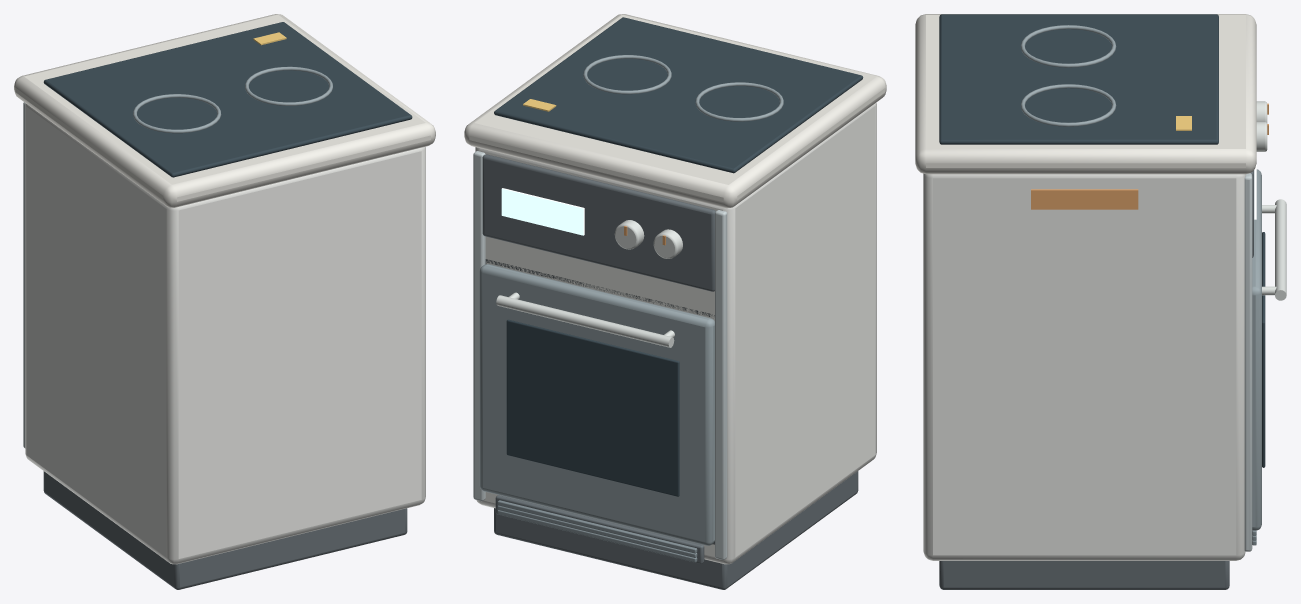
The model's file is galley_oven.glb.
3 views of the same model, side by side, from view 1: azimuth 30°, elevation 25°; view 2: azimuth 150°, elevation 25°; view 3: azimuth 270°, elevation 25° (orthographic). The views are drawn at different scales.
Parts seen in each view (by area): view 1: oven_body_white_painted, hob_dark_glass, oven_cap_warm_shell, oven_plinth_graphite, hob_rings_slate_panel, oven_rails_alloy; view 2: oven_body_white_painted, hob_dark_glass, oven_door_slate_panel, oven_window_dark_glass, oven_cap_warm_shell, control_panel_graphite, oven_plinth_graphite, oven_rails_alloy, oven_vent_dark_alloy, display_screen_cyan, oven_handle_satin_steel, hob_rings_slate_panel (+2 smaller); view 3: oven_body_white_painted, hob_dark_glass, oven_cap_warm_shell, oven_plinth_graphite, oven_rails_alloy, oven_door_slate_panel, side_label_orange, hob_rings_slate_panel, oven_handle_satin_steel, oven_window_dark_glass, knobs_satin_steel.
Boxes of the visible parts, x1=… form: oven_body_white_painted: x1=25, y1=103, x2=425, y2=564; hob_dark_glass: x1=43, y1=22, x2=412, y2=177; oven_cap_warm_shell: x1=14, y1=14, x2=435, y2=207; oven_plinth_graphite: x1=43, y1=471, x2=407, y2=589; hob_rings_slate_panel: x1=133, y1=66, x2=332, y2=133; oven_rails_alloy: x1=23, y1=102, x2=25, y2=448; oven_body_white_painted: x1=475, y1=102, x2=876, y2=564; hob_dark_glass: x1=494, y1=17, x2=863, y2=173; oven_door_slate_panel: x1=479, y1=264, x2=714, y2=545; oven_window_dark_glass: x1=506, y1=319, x2=679, y2=496; oven_cap_warm_shell: x1=464, y1=14, x2=886, y2=208; control_panel_graphite: x1=482, y1=154, x2=715, y2=291; oven_plinth_graphite: x1=494, y1=471, x2=858, y2=589; oven_rails_alloy: x1=473, y1=151, x2=727, y2=559; oven_vent_dark_alloy: x1=495, y1=495, x2=704, y2=563; display_screen_cyan: x1=501, y1=188, x2=584, y2=235; oven_handle_satin_steel: x1=496, y1=292, x2=674, y2=347; hob_rings_slate_panel: x1=583, y1=55, x2=783, y2=121; oven_body_white_painted: x1=923, y1=173, x2=1245, y2=560; hob_dark_glass: x1=939, y1=14, x2=1218, y2=144; oven_cap_warm_shell: x1=915, y1=14, x2=1256, y2=174; oven_plinth_graphite: x1=939, y1=561, x2=1229, y2=589; oven_rails_alloy: x1=1244, y1=173, x2=1252, y2=551; oven_door_slate_panel: x1=1252, y1=169, x2=1261, y2=530; side_label_orange: x1=1031, y1=189, x2=1138, y2=209; hob_rings_slate_panel: x1=1020, y1=25, x2=1116, y2=126; oven_handle_satin_steel: x1=1262, y1=199, x2=1286, y2=300; oven_window_dark_glass: x1=1262, y1=232, x2=1265, y2=467; knobs_satin_steel: x1=1256, y1=101, x2=1268, y2=151.
Bounding box in the file's own units: 0.63 × 0.936 × 0.691.
